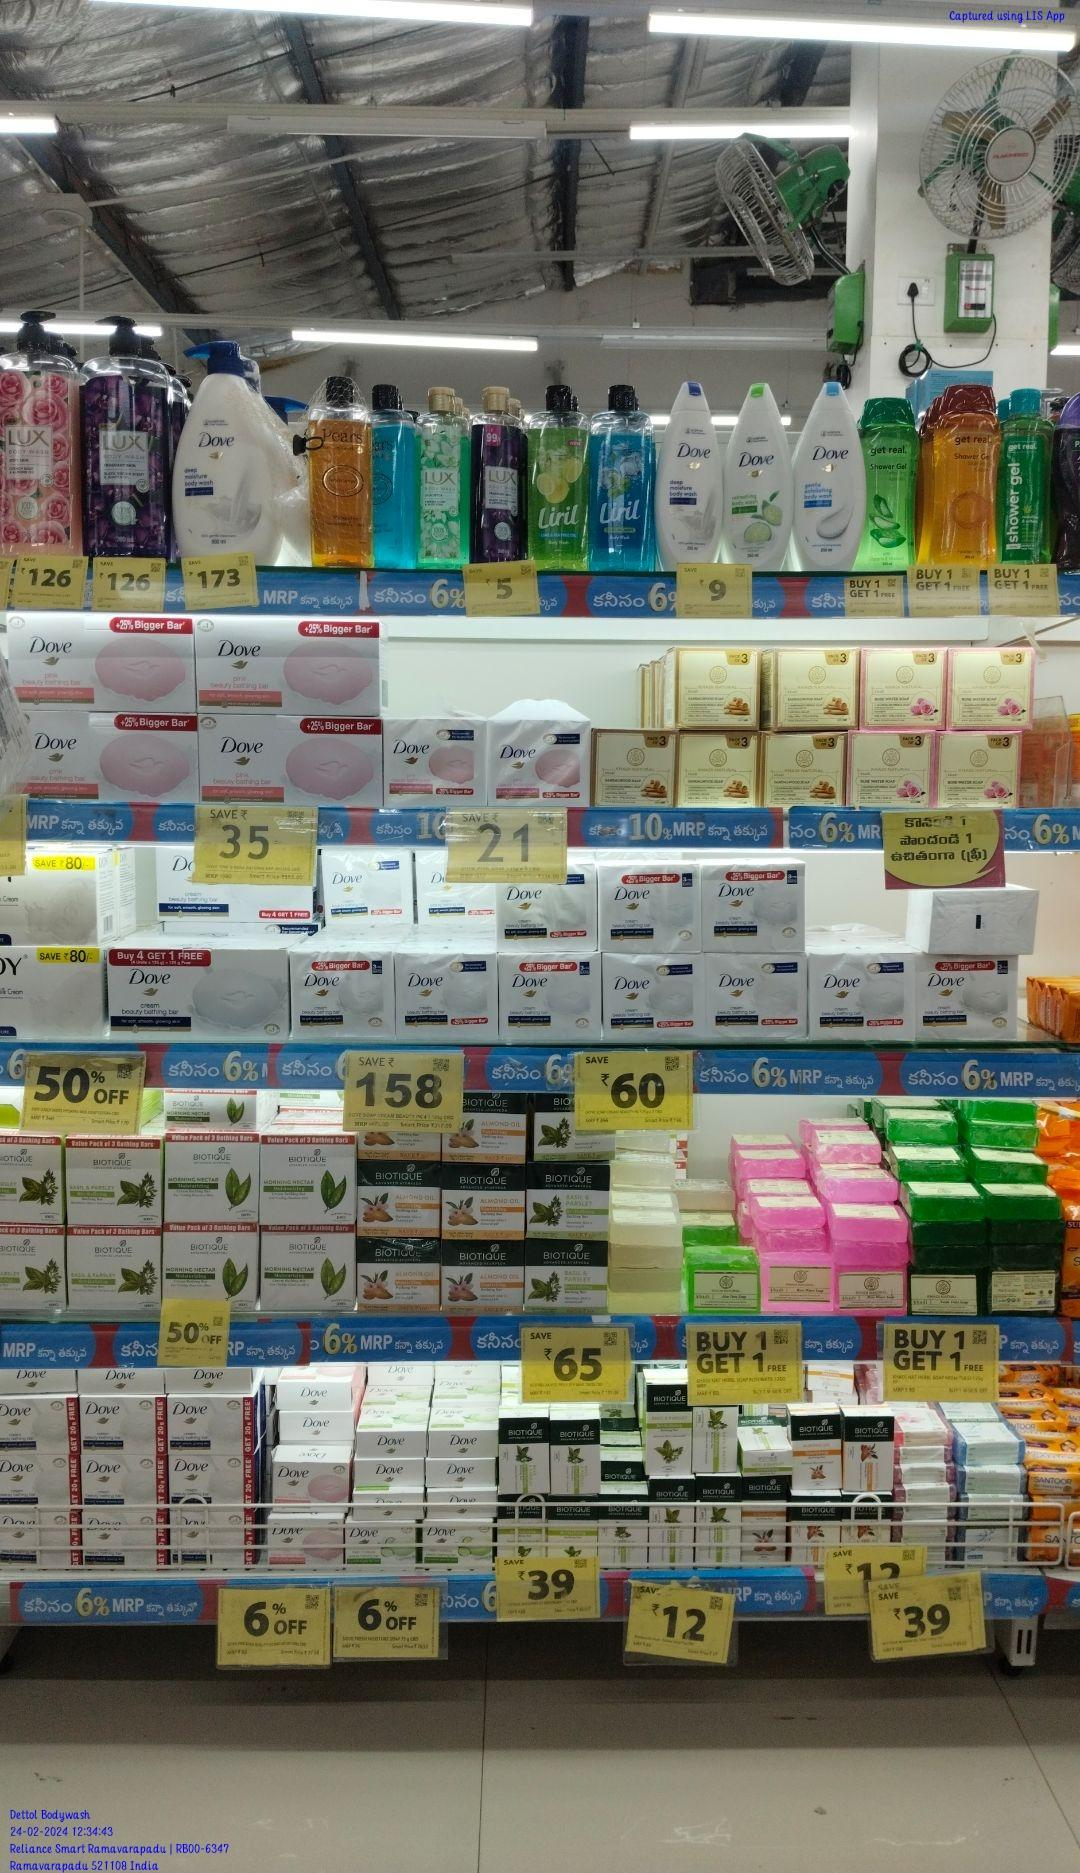Dove_Deep_Moisture_Body_Wash_250ML: (654, 383, 723, 565)
Dove_Gentle_Exfoliating_Body_Wash_250ML: (795, 383, 867, 570)
Dove_Refreshing_Body_Wash_250ML: (723, 385, 797, 565)
Get_Real_Shower_Gel_Moisturising_Glycerin_300ML: (924, 382, 1003, 566)
Lux_Black_Orchid_Scent_and_Juniper_Oil_Body_Wash_245ML: (476, 383, 527, 561)
Lux_Body_Wash_Skin_Detox_Freesia_Scent_and_Alove_Vera_245ML: (417, 383, 471, 567)
